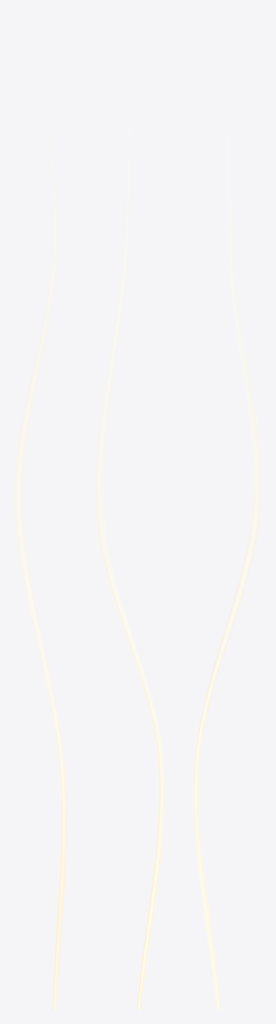
File: strand_b_danger.glb
3 renders of one model, left to right at view 1: azimuth 90°, elevation 25°; view 2: azimuth 150°, elevation 25°; view 3: azimuth 330°, elevation 25°, orthographic.
Bounding box in the file's own units: 0.3342 × 7 × 0.3373.
